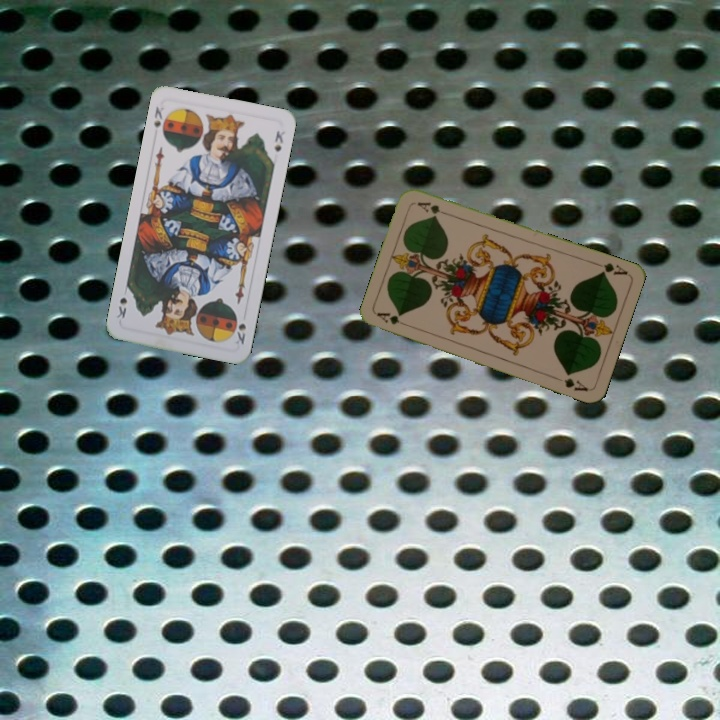GA: (373, 308, 412, 330), (590, 258, 630, 278)
SK: (230, 319, 249, 347), (150, 103, 166, 131)
